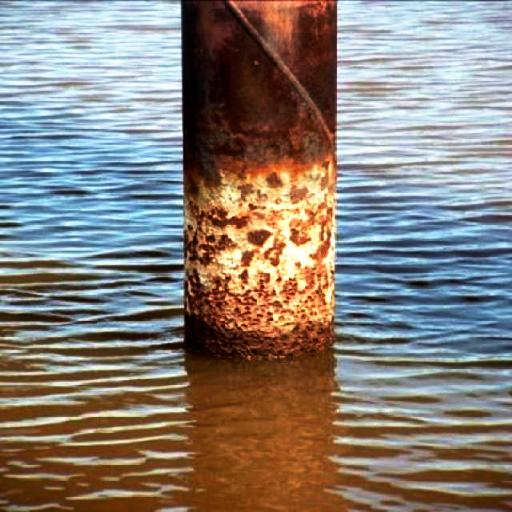corrosion: (180, 0, 341, 356)
